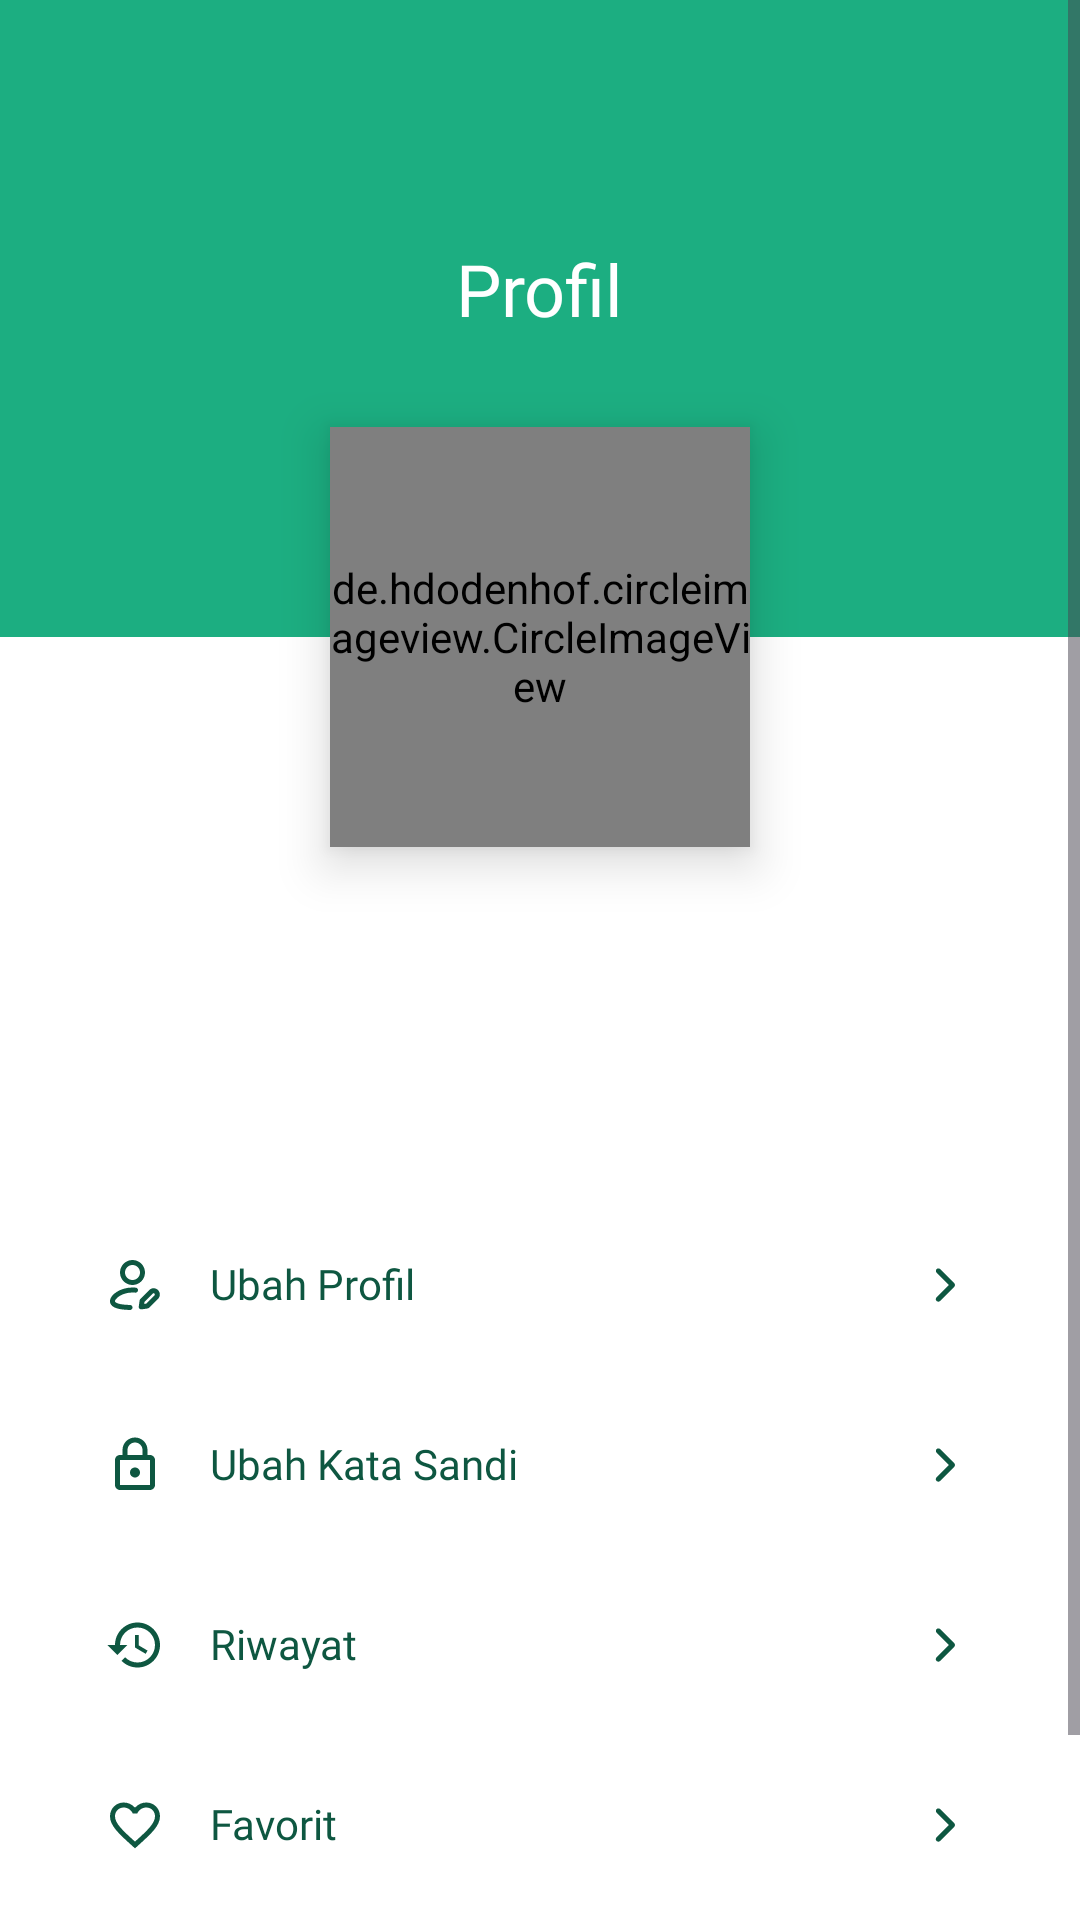

Named icons in this screenshot (1080 × 1920) and their centers, [x,y]:
Selanjutnya: [945,1285], [945,1465], [945,1645], [945,1825]
